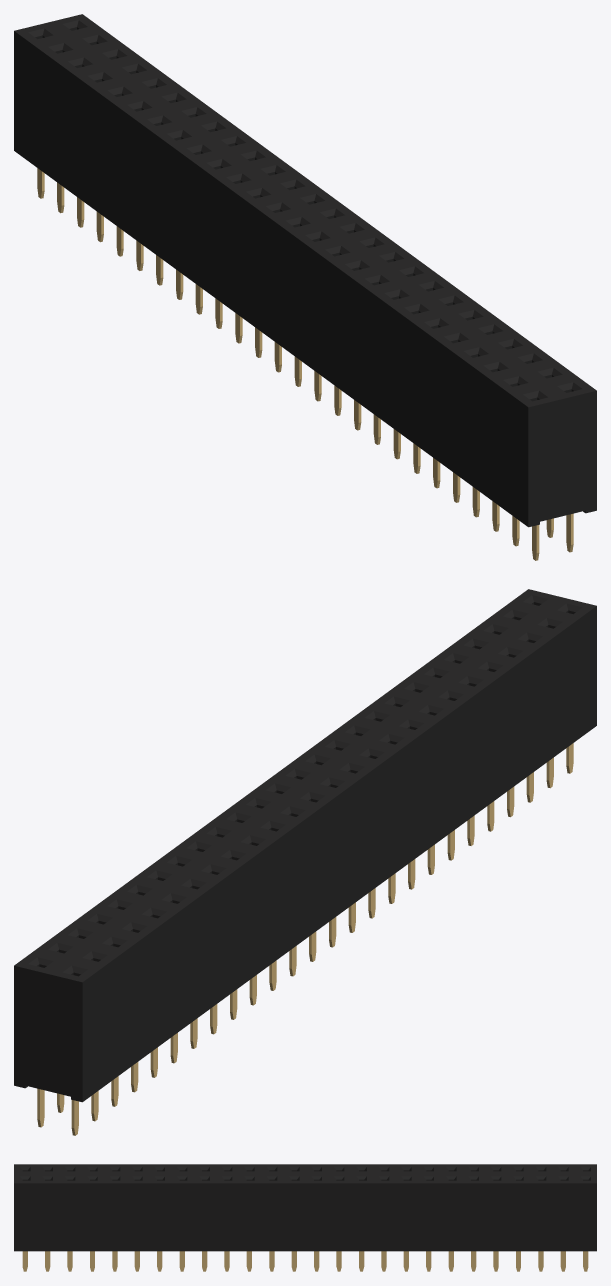
File: kc-pinsocket_2x26_p2.54mm_vertical.glb
3 renders of one model, top to bottom at view 1: azimuth 30°, elevation 25°; view 2: azimuth 150°, elevation 25°; view 3: azimuth 270°, elevation 25°, orthographic. The views are drawn at different scales.
Parts seen in each view (by area): view 1: 0_0_0_0, 0.75_0.5_0.25_0.9; view 2: 0_0_0_0, 0.75_0.5_0.25_0.9; view 3: 0_0_0_0, 0.75_0.5_0.25_0.9.
Boxes of the visible parts, <box> form: 0_0_0_0: <box>14,14,596,527</box>; 0.75_0.5_0.25_0.9: <box>37,168,573,560</box>; 0_0_0_0: <box>14,589,596,1102</box>; 0.75_0.5_0.25_0.9: <box>37,743,573,1135</box>; 0_0_0_0: <box>14,1164,596,1251</box>; 0.75_0.5_0.25_0.9: <box>22,1251,588,1271</box>.
Bounding box in the file's own units: 0.5079 × 1.16 × 6.6.
